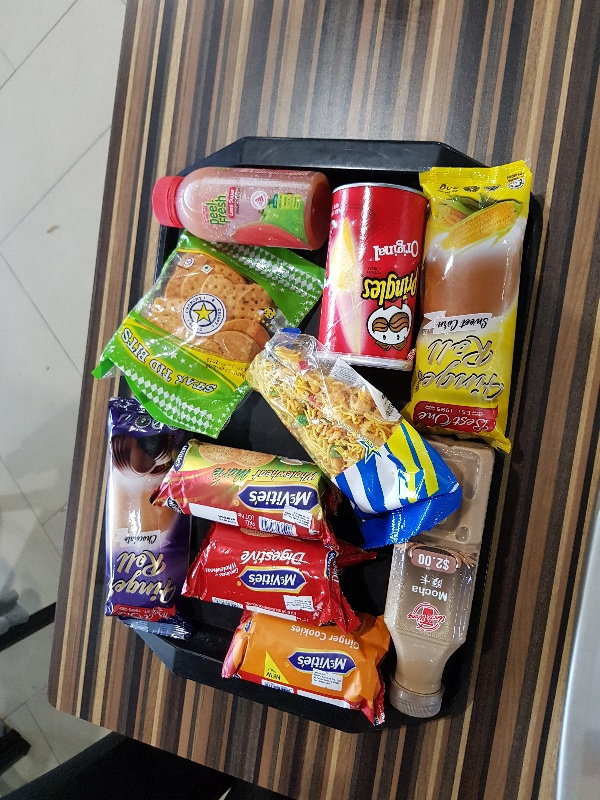Marigold Peel Fresh Pink Guava Juice Drink: (150, 166, 331, 251)
McVitie's Ginger Cookies: (220, 609, 394, 726)
McVitie's Wholewheat Marie: (149, 438, 343, 547)
Mcvitie's Digestive: (181, 520, 370, 634)
Mocha: (381, 435, 495, 720)
Pringles Original: (314, 182, 430, 372)
Star Tidbits 'O' Ring: (93, 228, 326, 441)
Star Tidbits Mixer: (244, 326, 460, 544)
Tinges Roll Chocolate: (105, 395, 189, 632)
Tinges Roll Sweet Corn: (407, 160, 534, 454)
